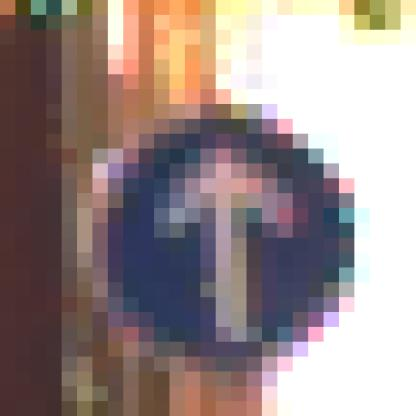AheadOnly: (78, 75, 325, 343)
